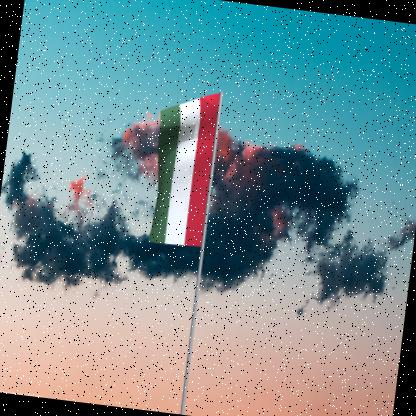hu: (145, 88, 221, 250)
